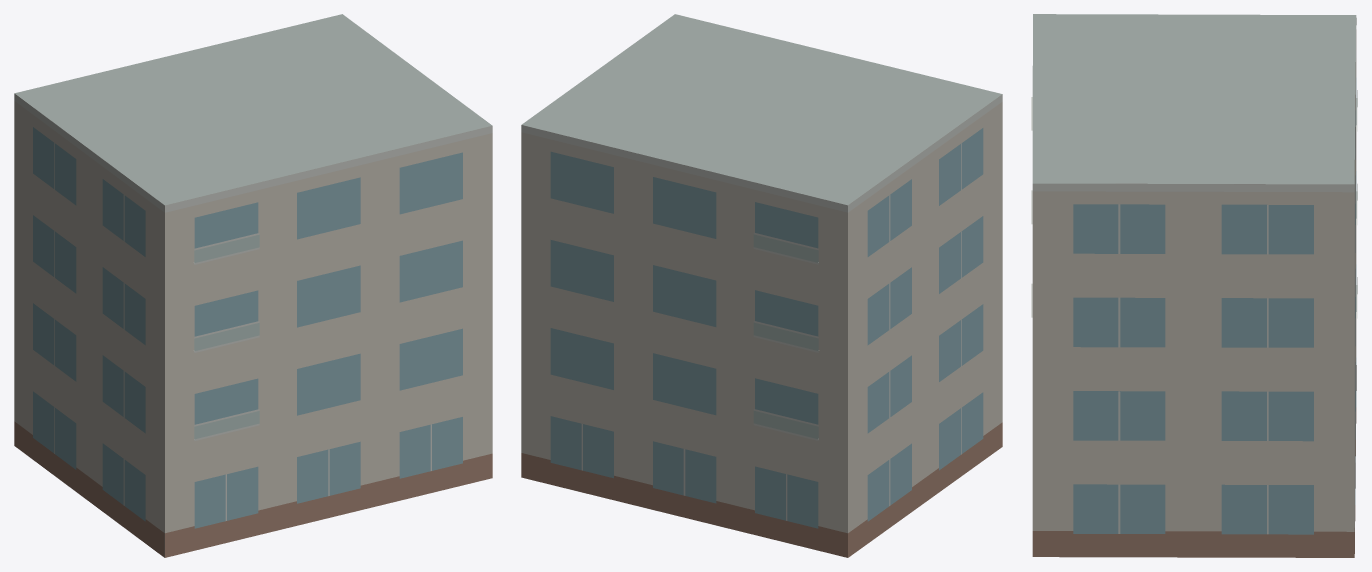
File: survey-upis-32638442.glb
The picture shows the model from 3 angles, left to right: view 1: azimuth 30°, elevation 25°; view 2: azimuth 150°, elevation 25°; view 3: azimuth 270°, elevation 25°; orthographic projection. The views are drawn at different scales.
Parts seen in each view (by area): view 1: survey-upis-32638442.tmp; view 2: survey-upis-32638442.tmp; view 3: survey-upis-32638442.tmp.
Boxes of the visible parts, bbox=[...] form: survey-upis-32638442.tmp: bbox=[14, 14, 492, 557]; survey-upis-32638442.tmp: bbox=[521, 14, 1002, 557]; survey-upis-32638442.tmp: bbox=[1031, 14, 1357, 557].
Size of the model in its own units: 11.41 by 11.65 by 9.22.
